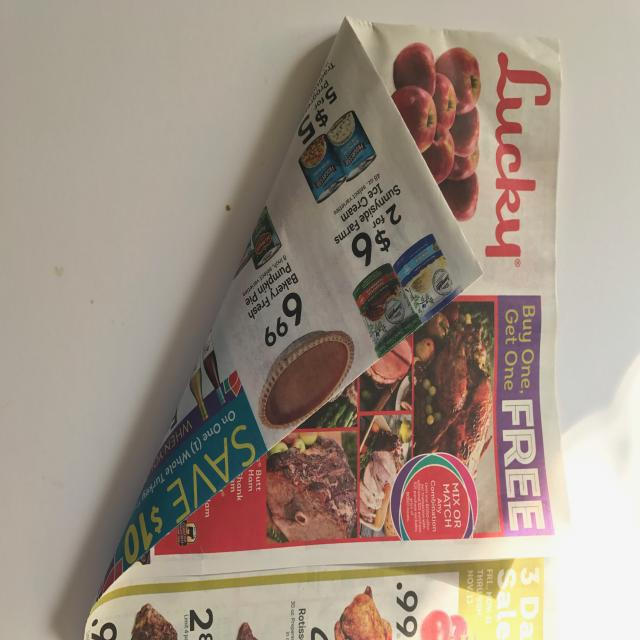paper: (84, 38, 574, 640)
